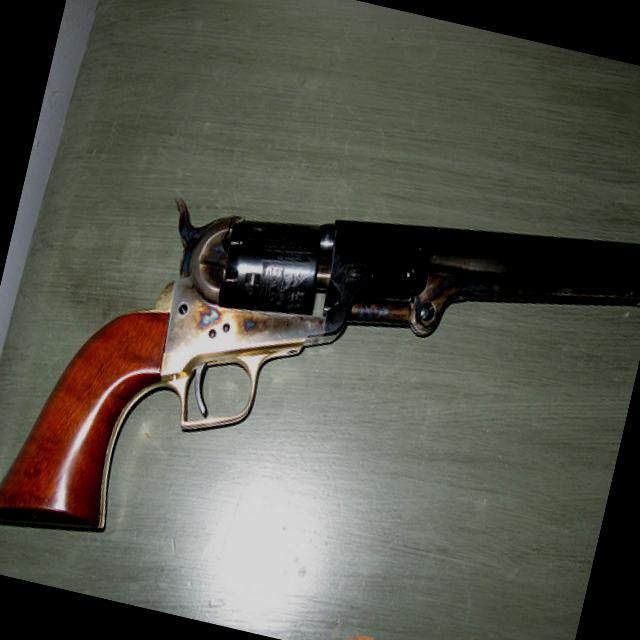handgun: (0, 101, 639, 639)
